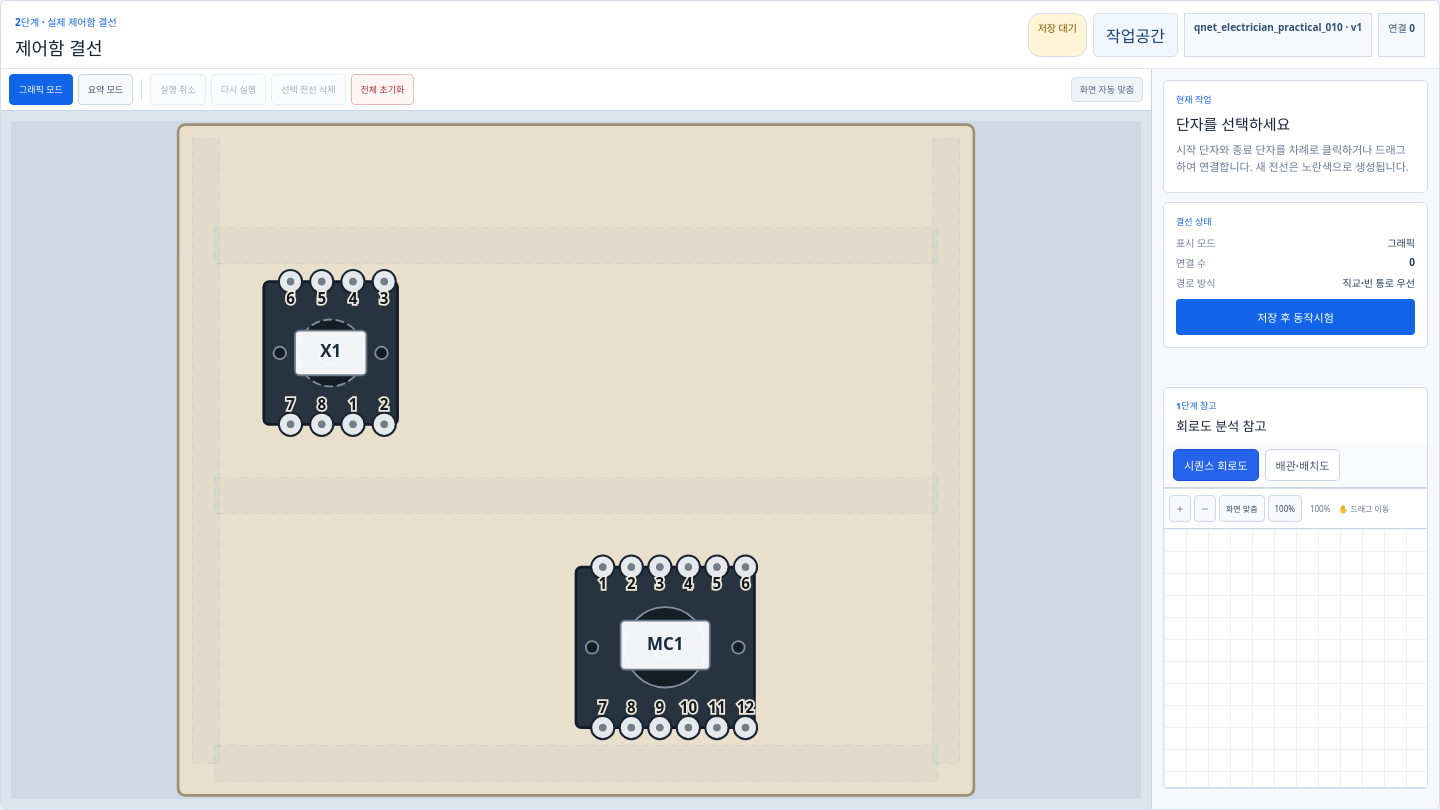
제어함 결선 › starts a JSON file download and reports the result
What coordinates should you click on to do the following:
click the button "작업공간"
I would click on:
 (1135, 34)
Its box is [1093, 12, 1178, 56].
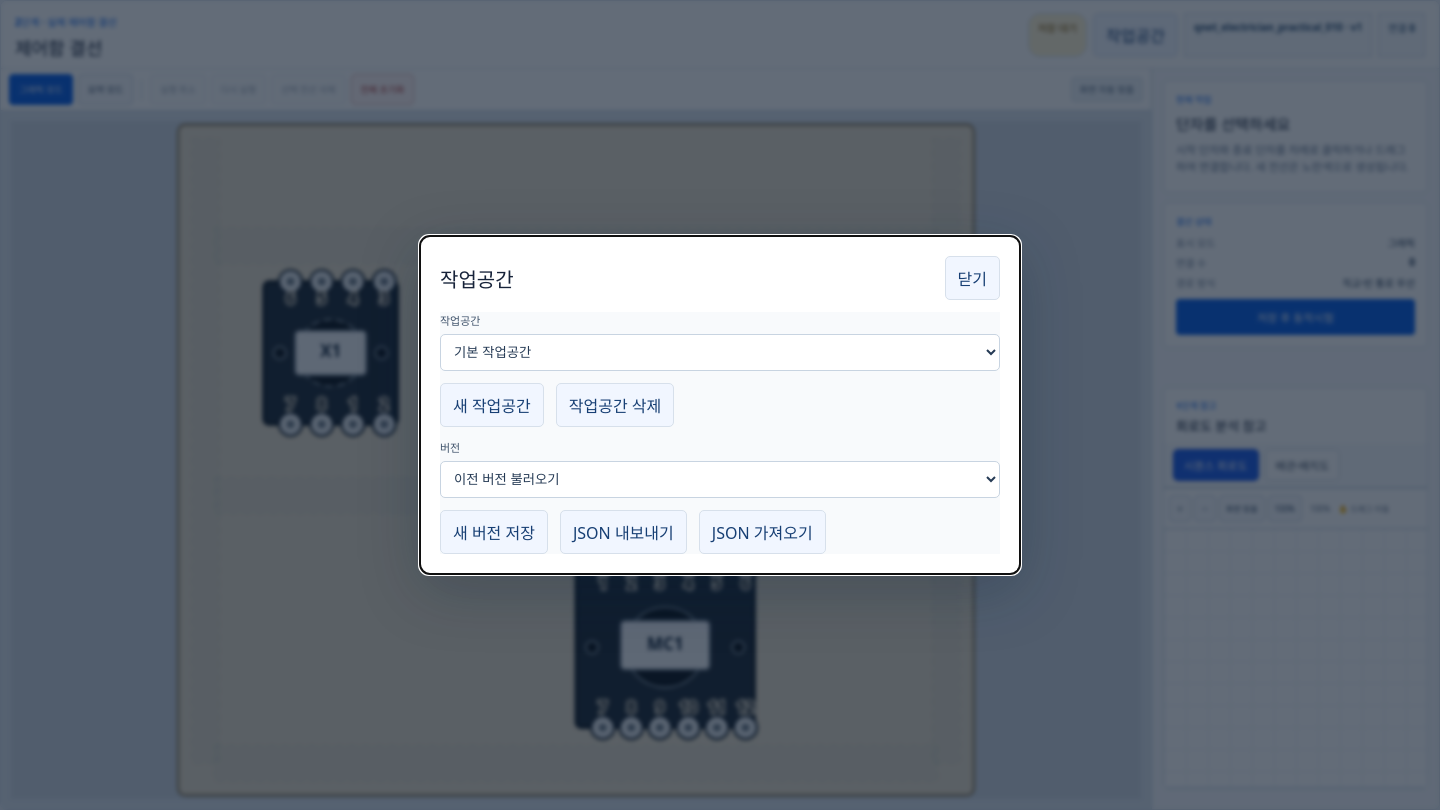
What coordinates should you click on to do the following:
click the button "JSON 내보내기"
I would click on:
 (623, 532)
Its box is [560, 510, 687, 554].
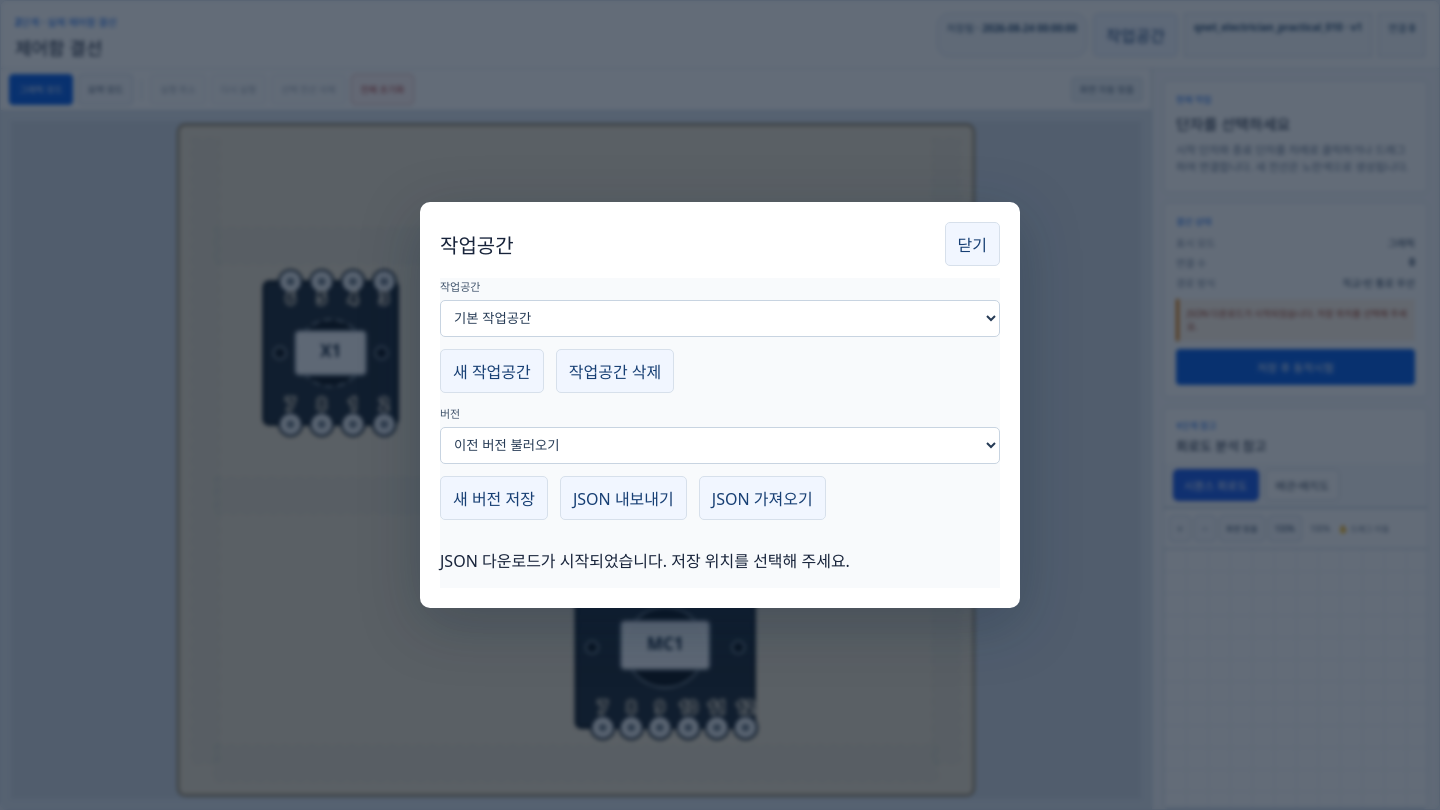
Expected: the message "JSON 다운로드가 시작되었습니다. 저장 위치를 선택해 주세요." below "경로 방식" is shown, [1187, 307, 1407, 333]
